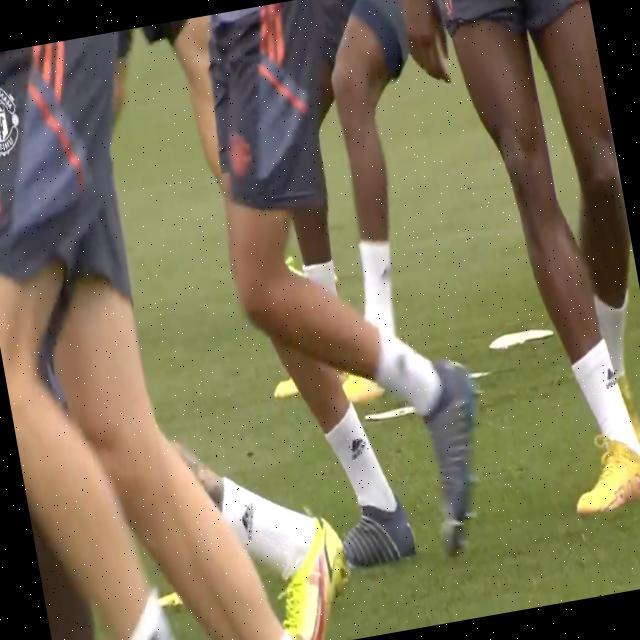Adidas: (237, 500, 260, 544), (347, 433, 370, 461), (600, 363, 619, 391)
